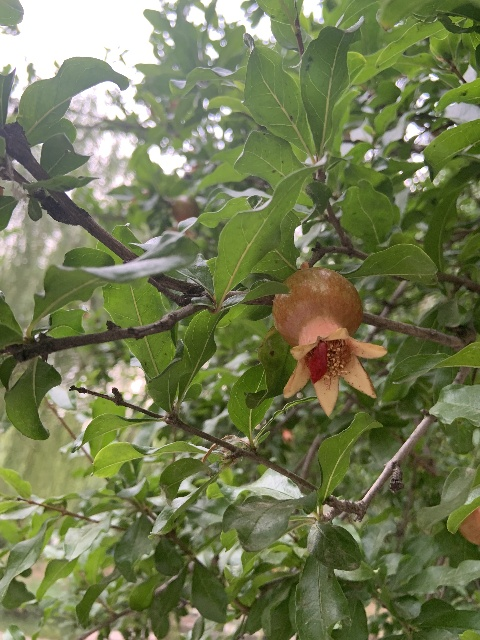early-fruit: (272, 266, 387, 417)
